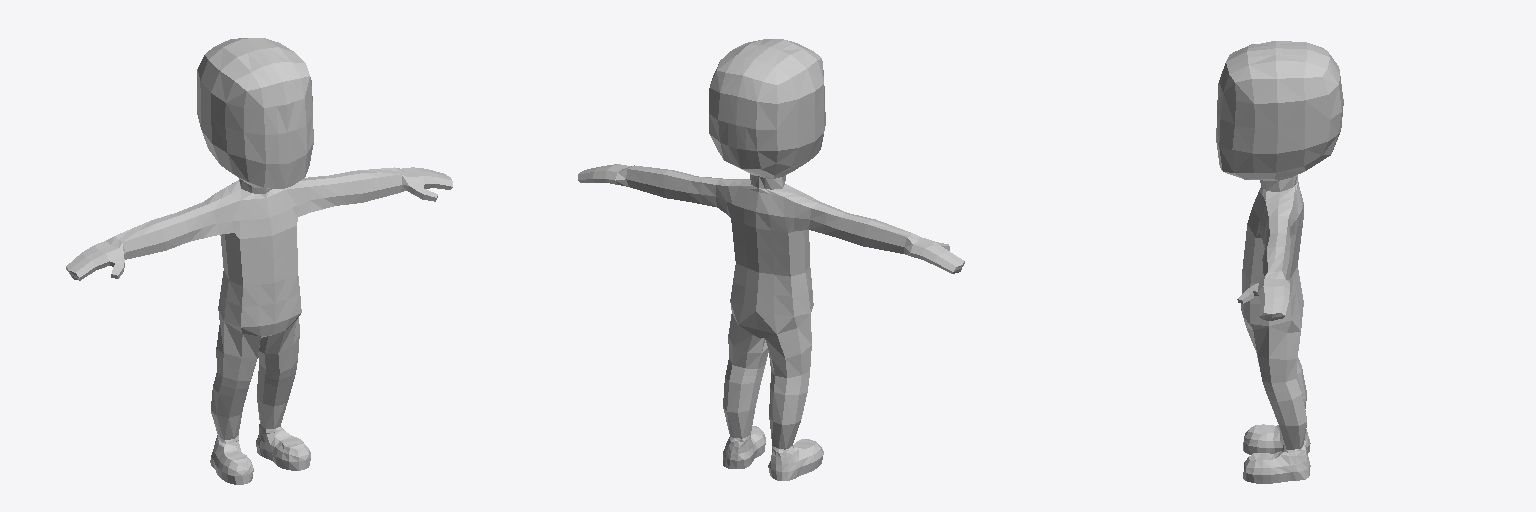
File: enemy.obj
The picture shows the model from 3 angles: view 1: azimuth 30°, elevation 25°; view 2: azimuth 150°, elevation 25°; view 3: azimuth 270°, elevation 25°; orthographic projection.
Visible parts, largest first — view 1: characterMedium; view 2: characterMedium; view 3: characterMedium.
Boxes of the visible parts, <box> form: characterMedium: <box>66,38,452,484</box>; characterMedium: <box>578,39,964,480</box>; characterMedium: <box>1216,41,1343,483</box>.
Size of the model in its own units: 0.1947 by 0.2025 by 0.0564.